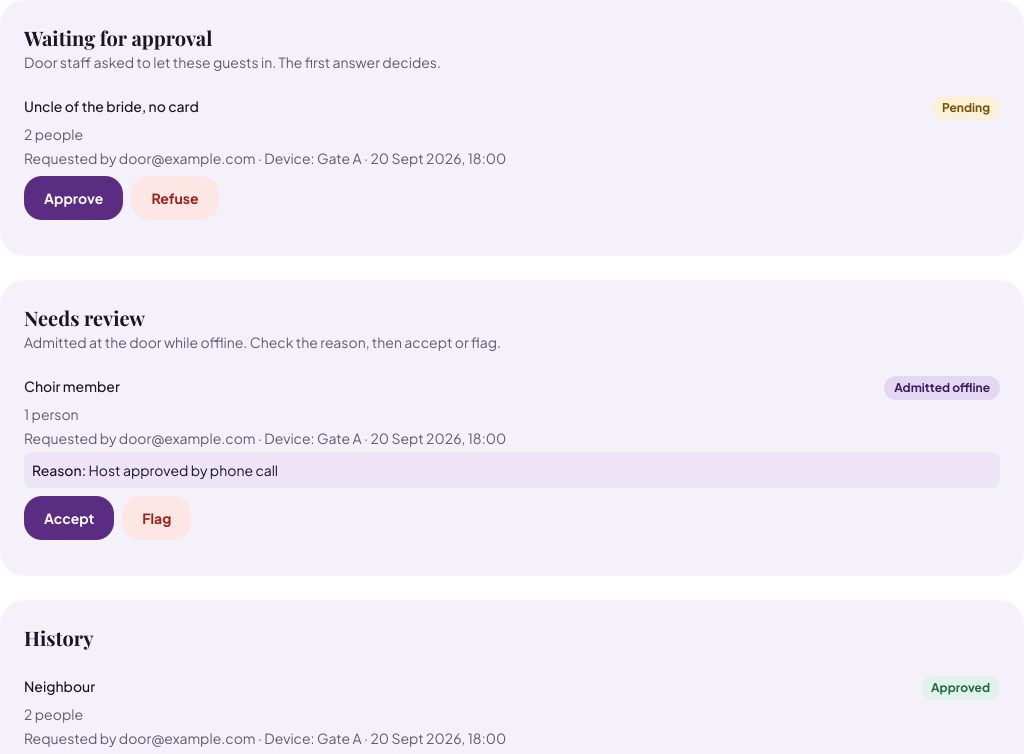
WalkInApprovals › shows who decided on a 409 and updates the row
Click the button "Approve" at (74, 198), box top-left (24, 176), bottom-right (123, 220)
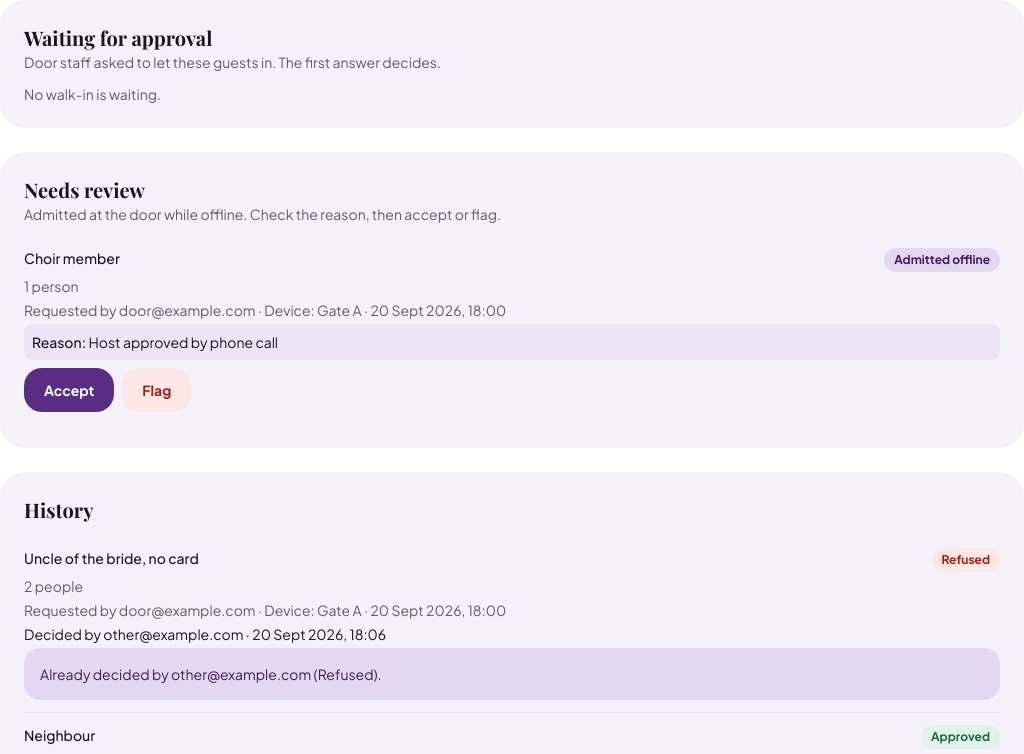
Expected: the list item with test id "walk-in-w1" shows "Already decided by other@example.com (Refused).", top-left (40, 665), bottom-right (382, 683)
Expected: the list item with test id "walk-in-w1" shows "Refused", top-left (942, 552), bottom-right (990, 567)
